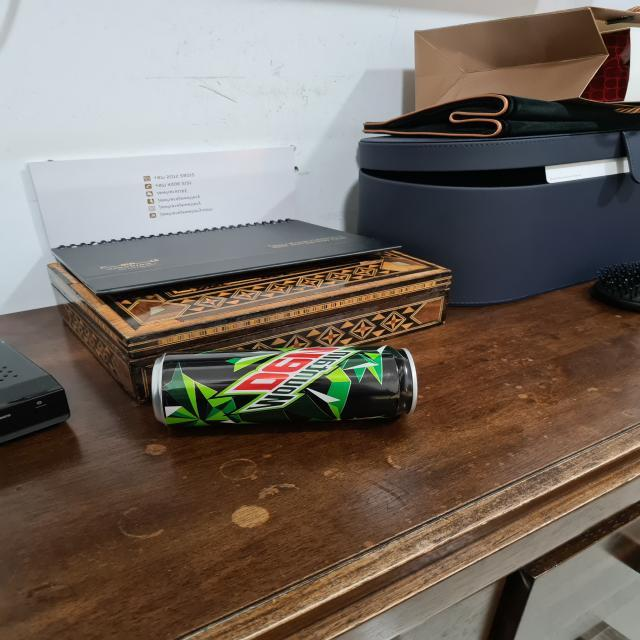can: (142, 343, 426, 432)
